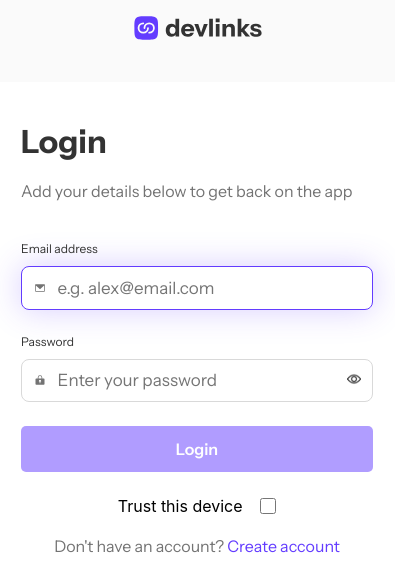
Test: <Login /> › displays error messages if password is null
Type "test@example.com" into the field with placeholder "e.g. alex@email.com".
click(209, 288); type("test@example.com")  # box [58,278,361,298]
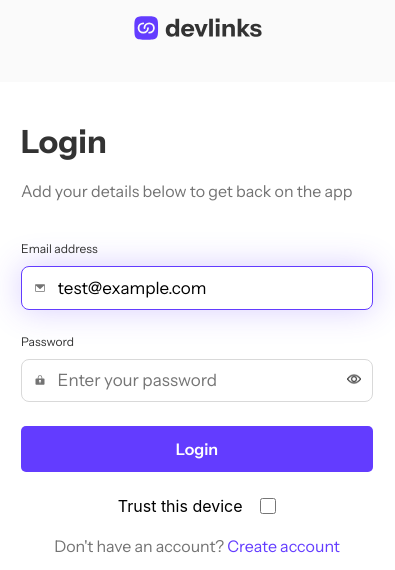
Click the button with test id "login-button".
click(197, 449)  # box [21,426,373,472]
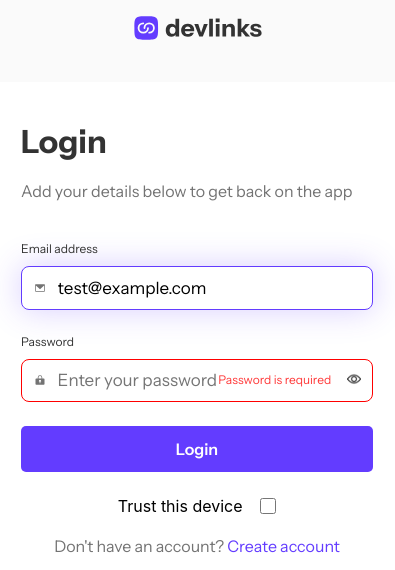
Now the text "Password is required" is shown, box [218,372,331,388]
